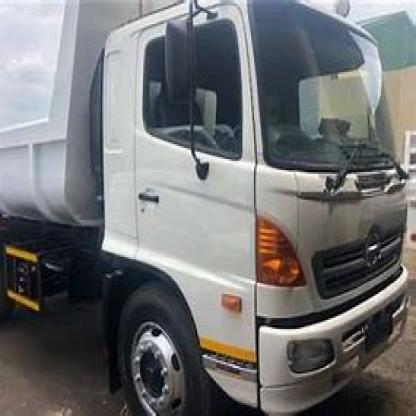dump_truck: (0, 0, 413, 409)
